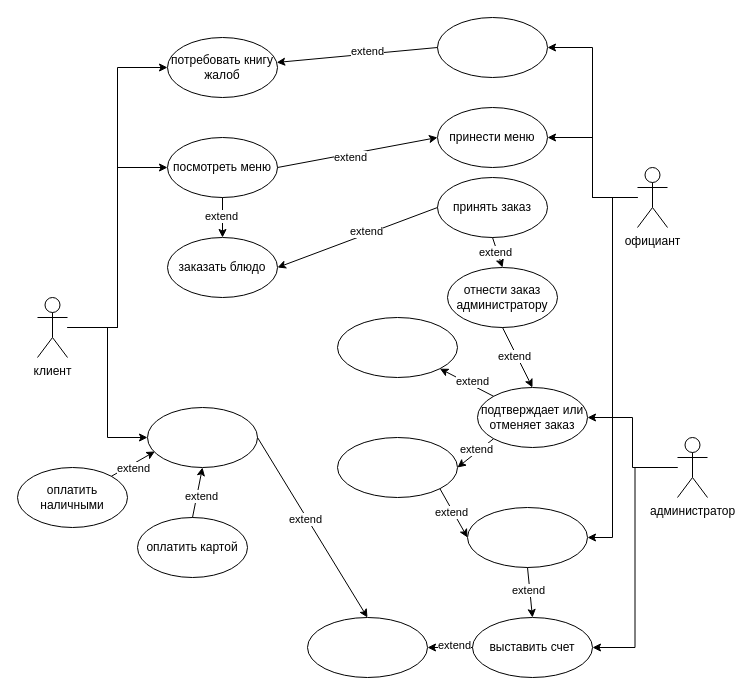
This 752x695 diagram has some shape labels left out. The shapes that lost their labels are listed below. From the top down, each one's centre as x and y in pixels, then its label:
(492,47): принести книгу жалоб
(397,347): предложить другое блюдо
(202,437): оплатить счет
(397,467): отправить заказ на кухню
(527,537): вынести заказ
(367,647): вынести счет
